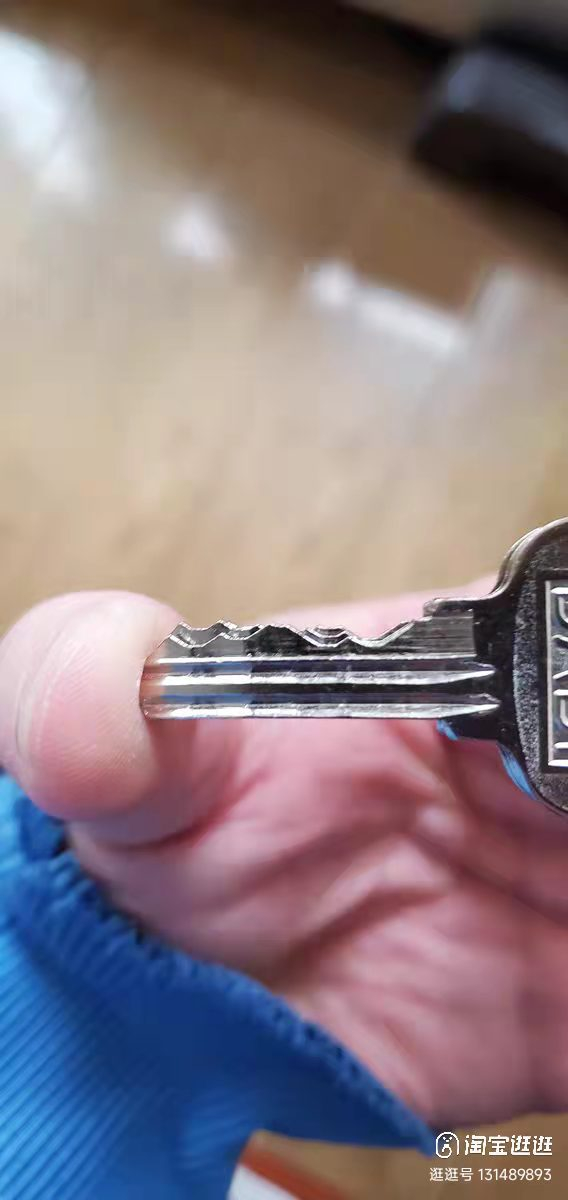key: (142, 494, 568, 807)
